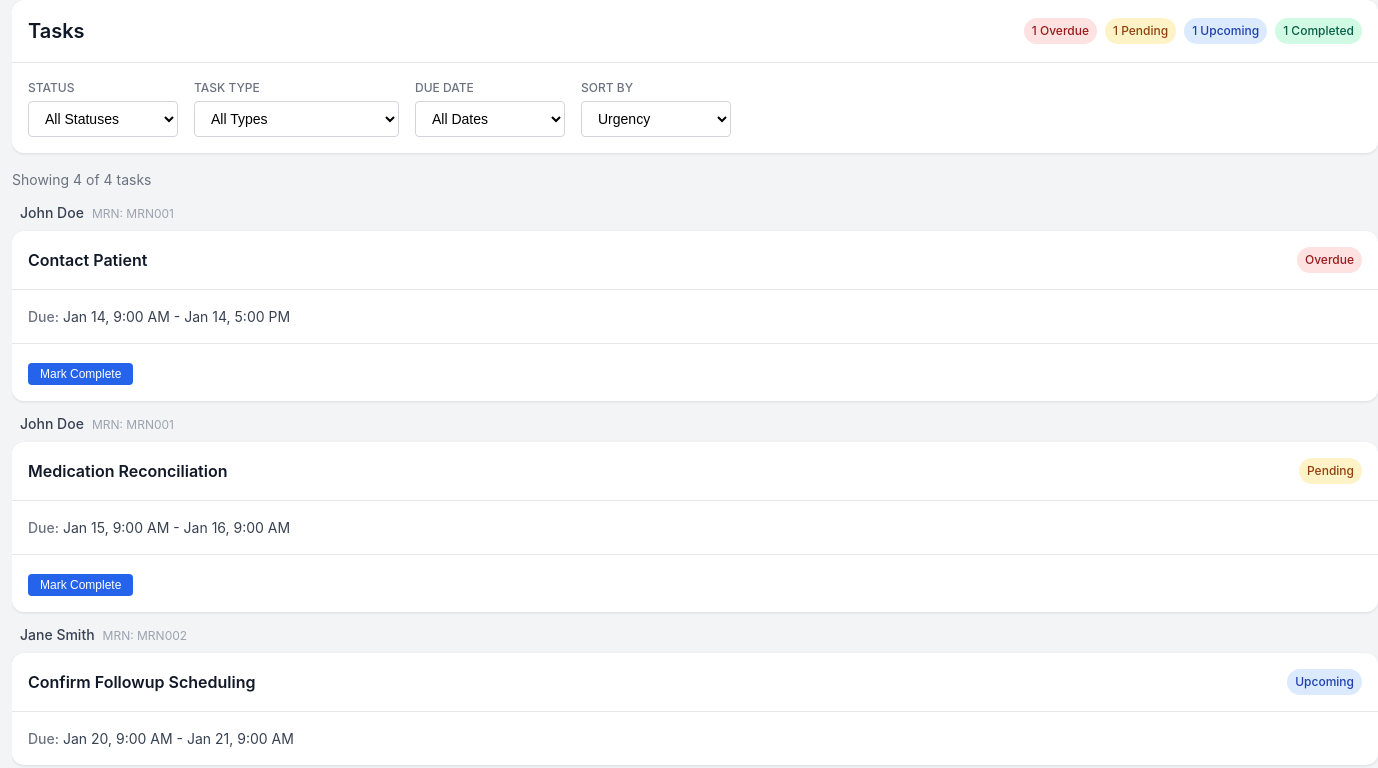
Test: TaskListView › filters › filters by status
This screenshot has width=1378, height=768.
Select "Overdue" in the dropdown labelled "Status" at (103, 119), box [28, 101, 178, 137]
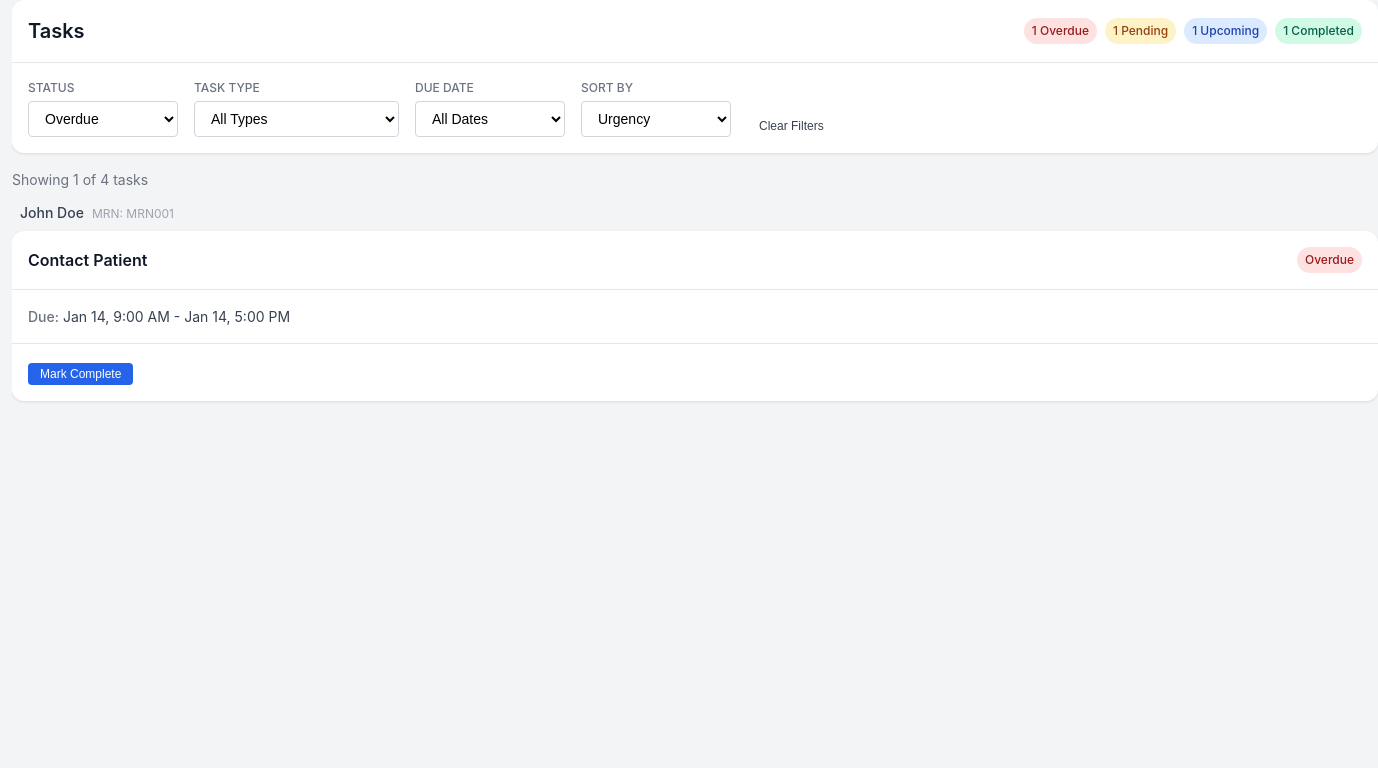
Check: the text "Overdue" is shown, box [1297, 247, 1362, 273]
Check: the text "Showing 1 of 4 tasks" is shown, box [12, 171, 148, 188]
